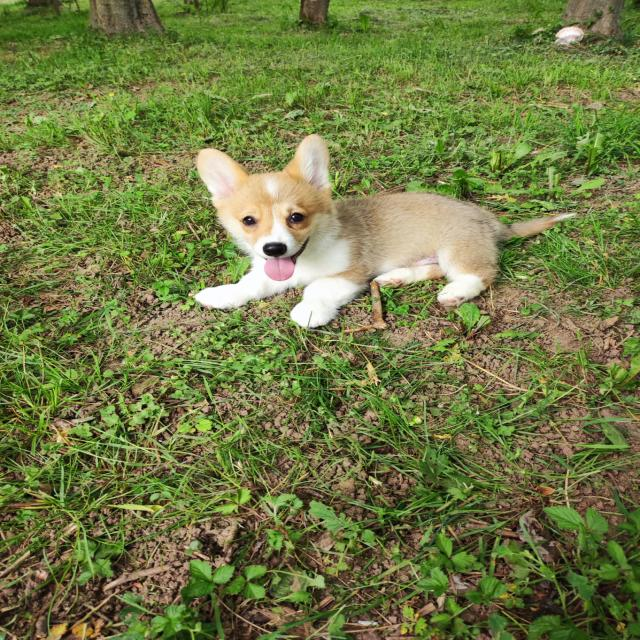CORGI: (161, 146, 581, 321)
